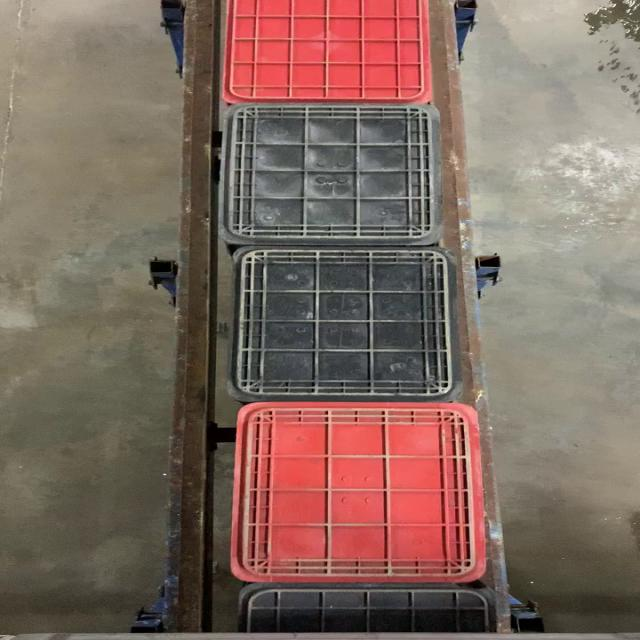Box: (231, 401, 490, 588), (230, 247, 465, 402), (228, 105, 437, 247)
